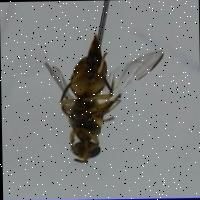Oriental-fruit-fly: (25, 22, 168, 172)
